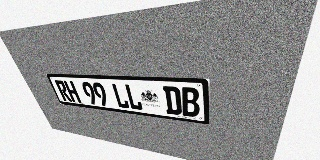9: (80, 81, 99, 105), (91, 82, 110, 106)
B: (180, 87, 200, 118)
D: (163, 86, 182, 115)
H: (63, 81, 81, 103)
L: (124, 84, 143, 111), (111, 83, 130, 109)
R: (54, 80, 72, 102)
